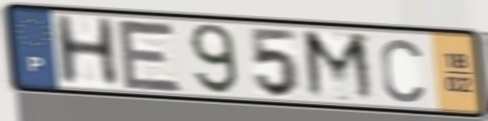5: (245, 25, 305, 99)
9: (185, 22, 242, 97)
C: (377, 35, 427, 105)
E: (113, 16, 186, 95)
H: (50, 13, 124, 88)
M: (299, 27, 380, 105)
